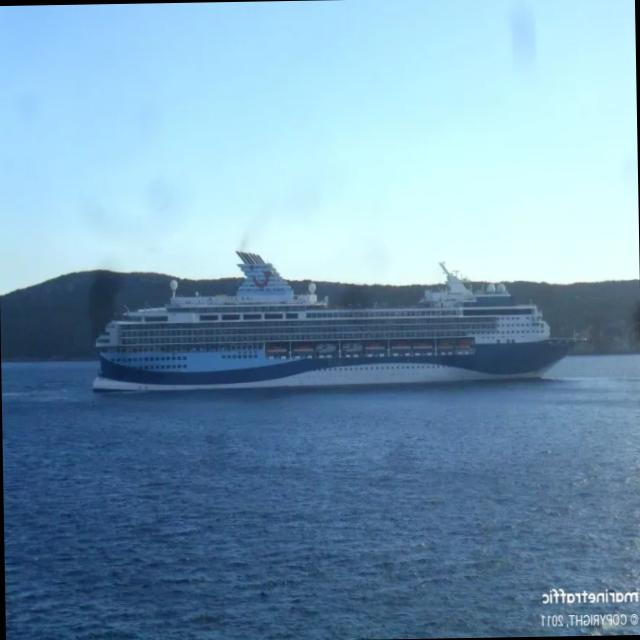Cruise: (94, 251, 575, 391)
